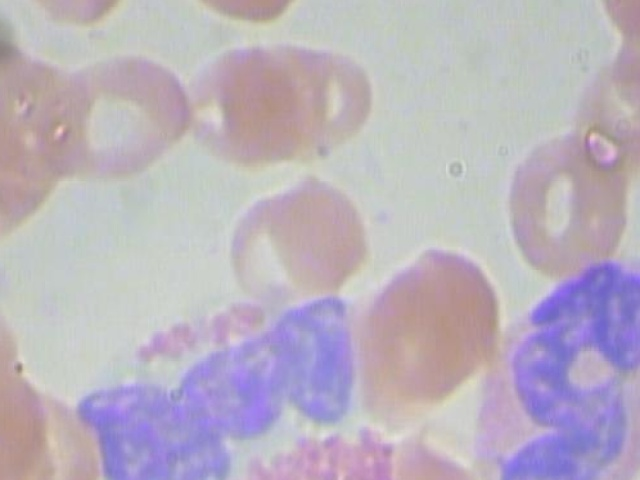RBC: (31, 40, 202, 192), (376, 229, 509, 401), (504, 123, 635, 275), (272, 24, 381, 151), (262, 163, 371, 289), (216, 181, 324, 308), (221, 33, 329, 159), (180, 40, 288, 166), (560, 46, 640, 172), (171, 0, 321, 26), (15, 0, 138, 25), (594, 0, 640, 41), (0, 263, 4, 421)
WBC: (67, 287, 417, 480), (460, 253, 640, 480)
